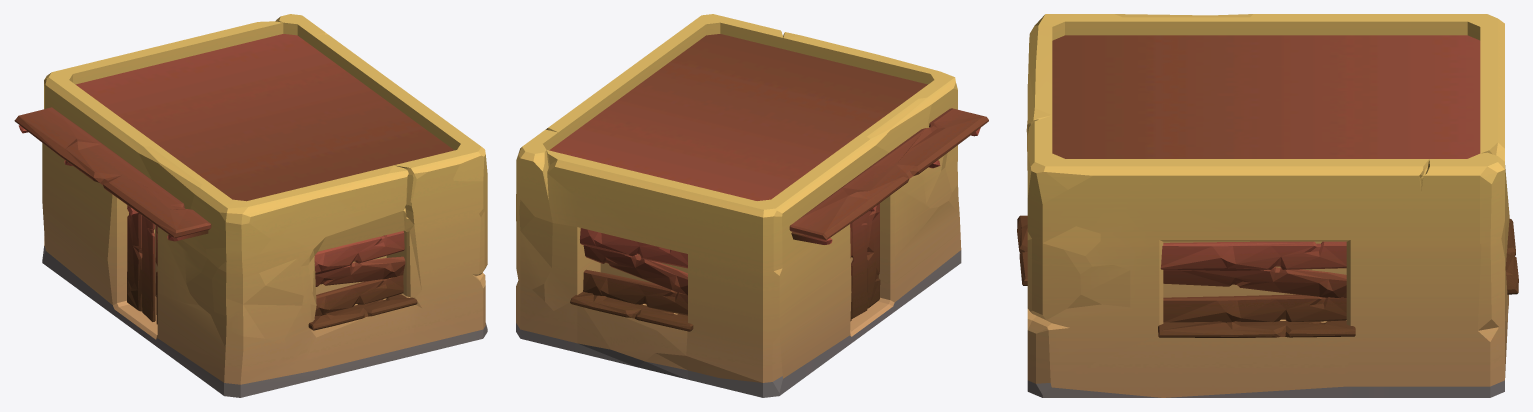
3 views of the same model, side by side, from view 1: azimuth 30°, elevation 25°; view 2: azimuth 150°, elevation 25°; view 3: azimuth 270°, elevation 25° (orthographic). The views are drawn at different scales.
Visible parts, largest first — view 1: House2; view 2: House2; view 3: House2.
Boxes of the visible parts, left/top/right/bottom form: House2: left=14, top=14, right=487, bottom=397; House2: left=516, top=14, right=988, bottom=397; House2: left=1017, top=14, right=1518, bottom=397.
Bounding box in the file's own units: 53.55 × 30.15 × 60.
Materials: 1 (1 with a texture image).
